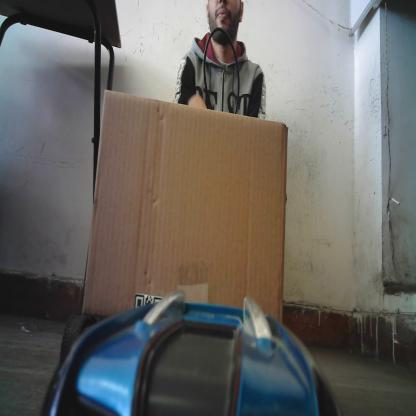LeadTruck: (58, 87, 292, 396)
